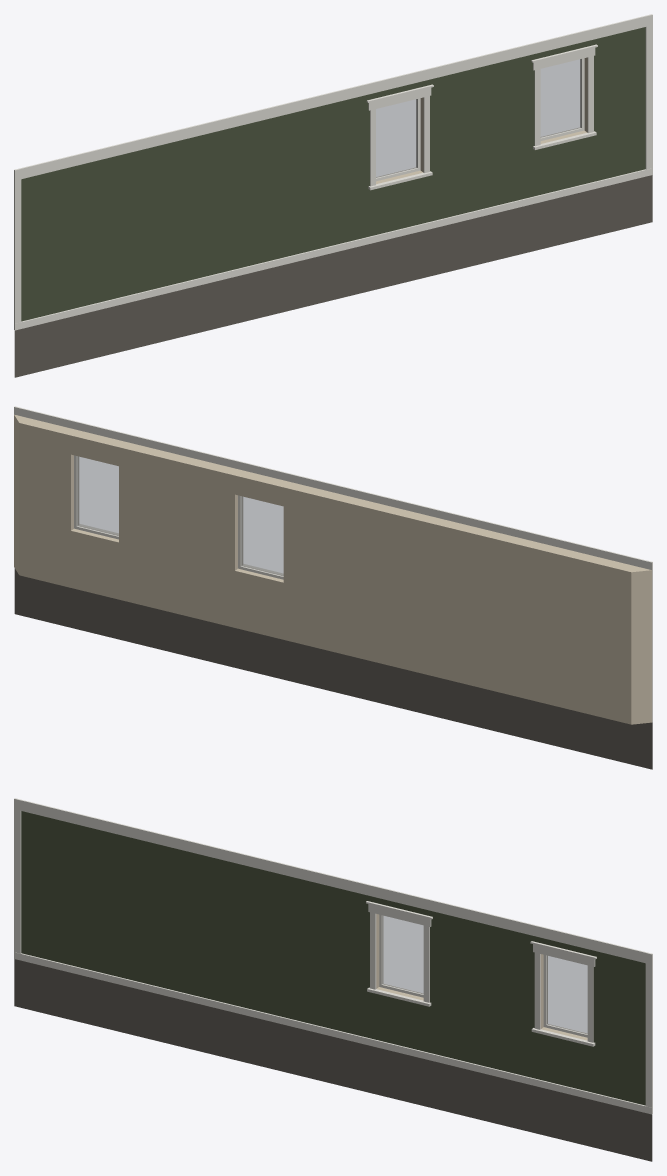
The model's file is wall-06.glb.
The picture shows the model from 3 angles, top to bottom: view 1: azimuth 30°, elevation 25°; view 2: azimuth 150°, elevation 25°; view 3: azimuth 330°, elevation 25°; orthographic projection.
Size of the model in its own units: 35.05 by 10.9 by 0.8929.
